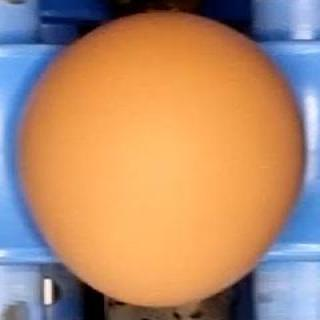Telur: (7, 10, 311, 311)
